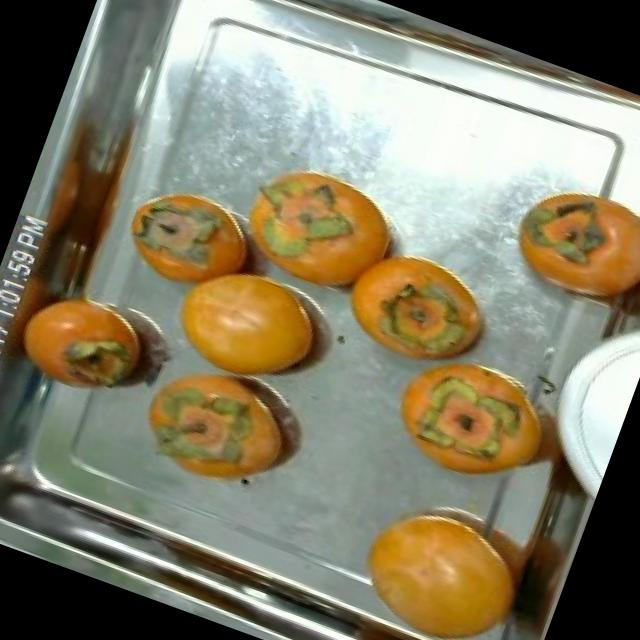Fruit: (360, 332, 582, 520), (211, 133, 429, 320), (111, 332, 329, 514), (143, 242, 359, 416), (320, 221, 524, 402), (331, 474, 550, 640), (484, 158, 640, 337), (0, 269, 168, 427), (106, 163, 275, 310)
